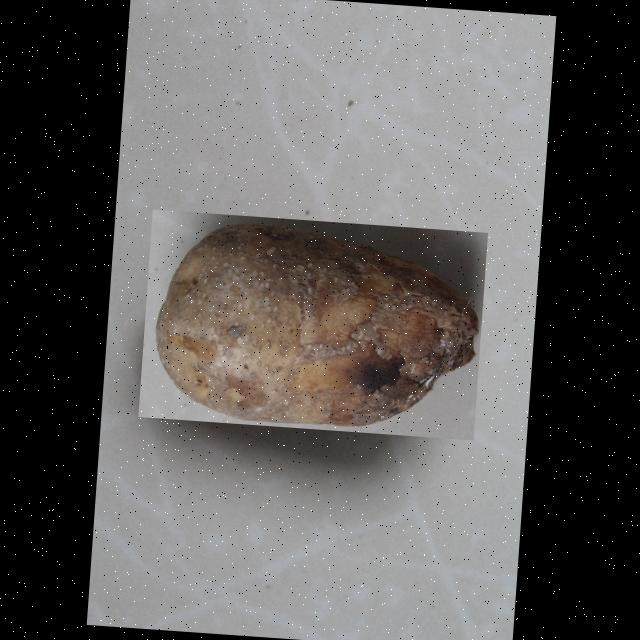Diseased-fungal potato: (136, 209, 486, 440)
